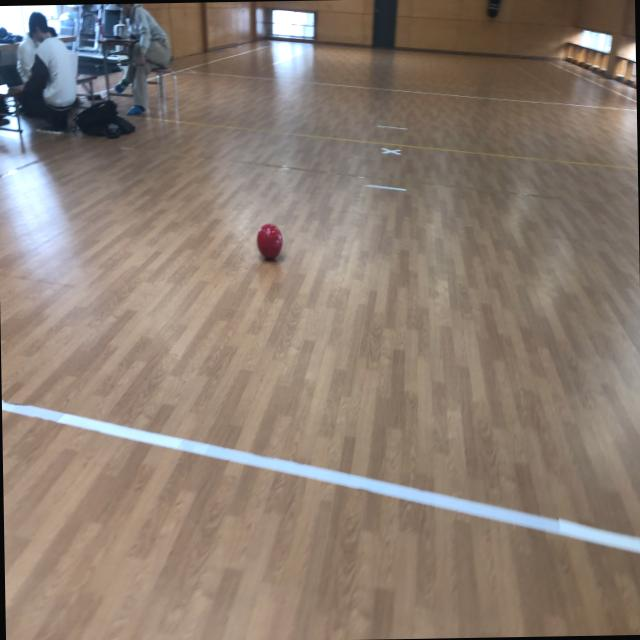red_ball: (256, 221, 282, 260)
